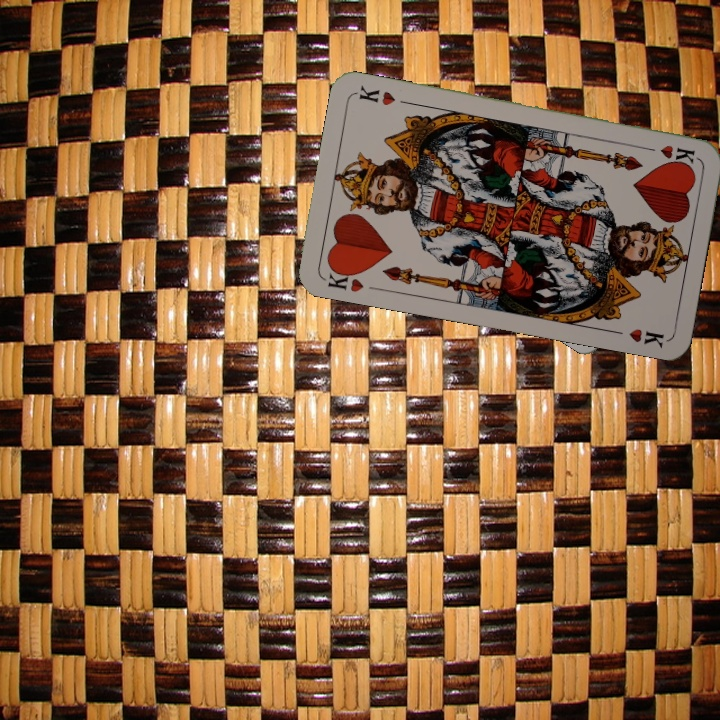HK: (639, 141, 697, 167), (321, 263, 366, 295)
